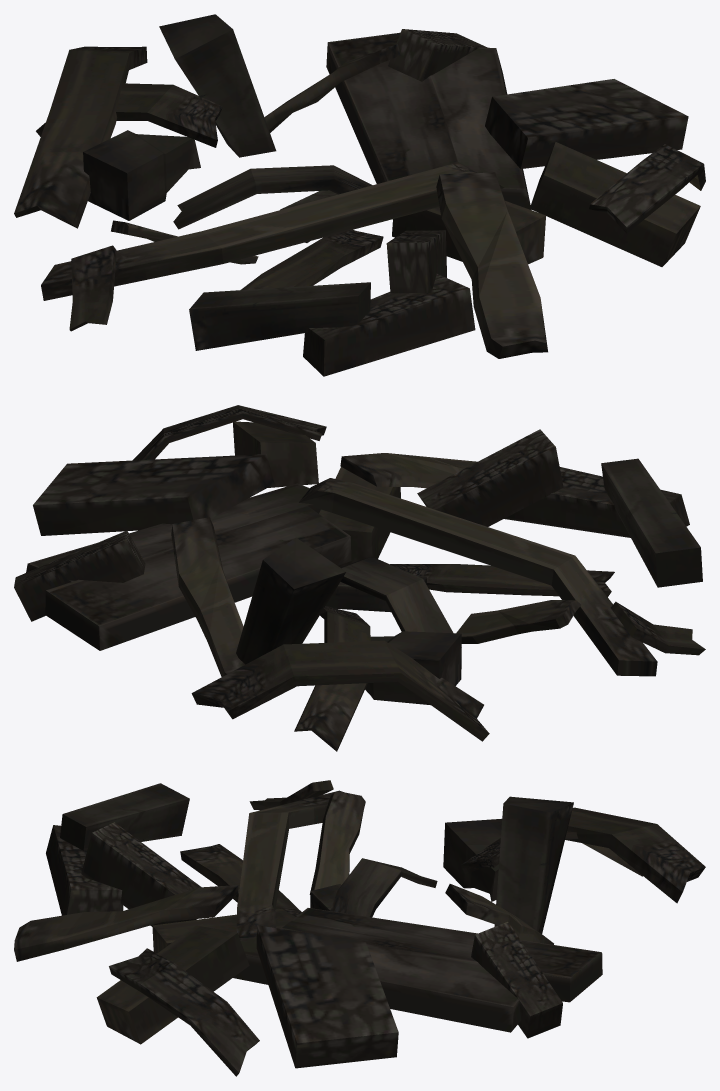
File: debris_piles_burnt_03.fbx
3 renders of one model, top to bottom at view 1: azimuth 30°, elevation 25°; view 2: azimuth 150°, elevation 25°; view 3: azimuth 270°, elevation 25°, orthographic. The views are drawn at different scales.
Parts seen in each view (by area): view 1: obj0.438; view 2: obj0.438; view 3: obj0.438.
Part boxes in pixels (bbox=[...]): obj0.438: bbox=[14, 14, 705, 376]; obj0.438: bbox=[14, 405, 705, 751]; obj0.438: bbox=[14, 780, 705, 1076].
Size of the model in its own units: 5.69 by 1.31 by 5.77.
